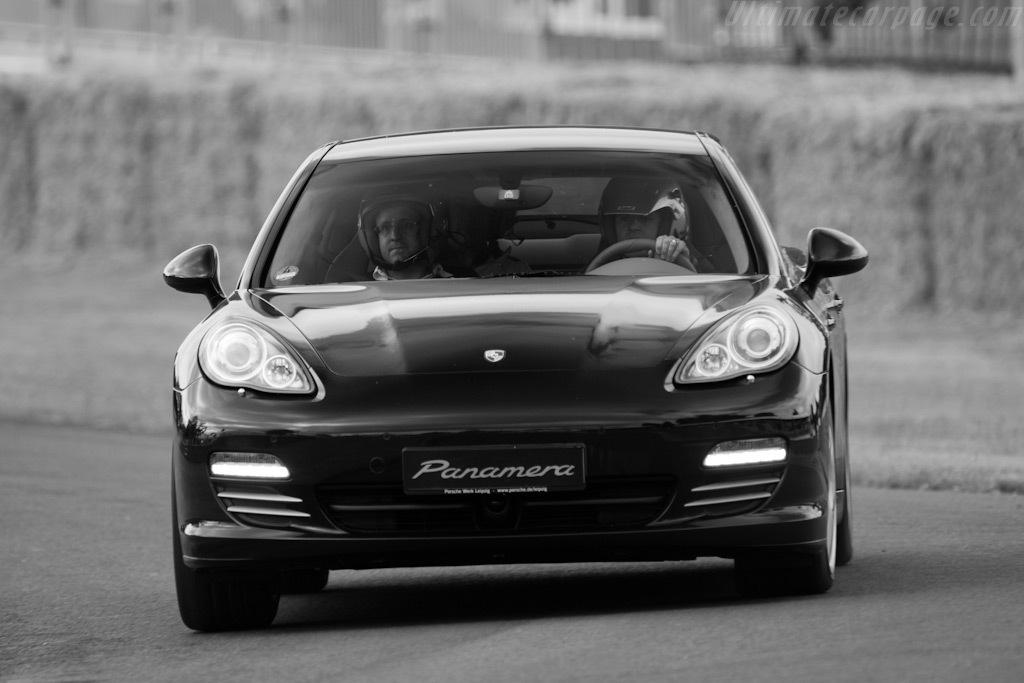car: (162, 127, 874, 638)
